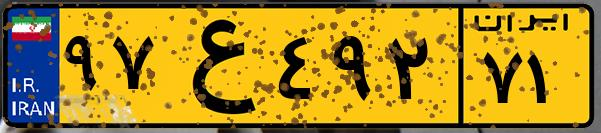1: (525, 38, 570, 115)
2: (385, 28, 445, 110)
4: (270, 28, 330, 110)
7: (475, 38, 525, 113), (110, 28, 158, 98)
9: (330, 28, 385, 110), (57, 26, 110, 100)
ع: (158, 12, 270, 120)
